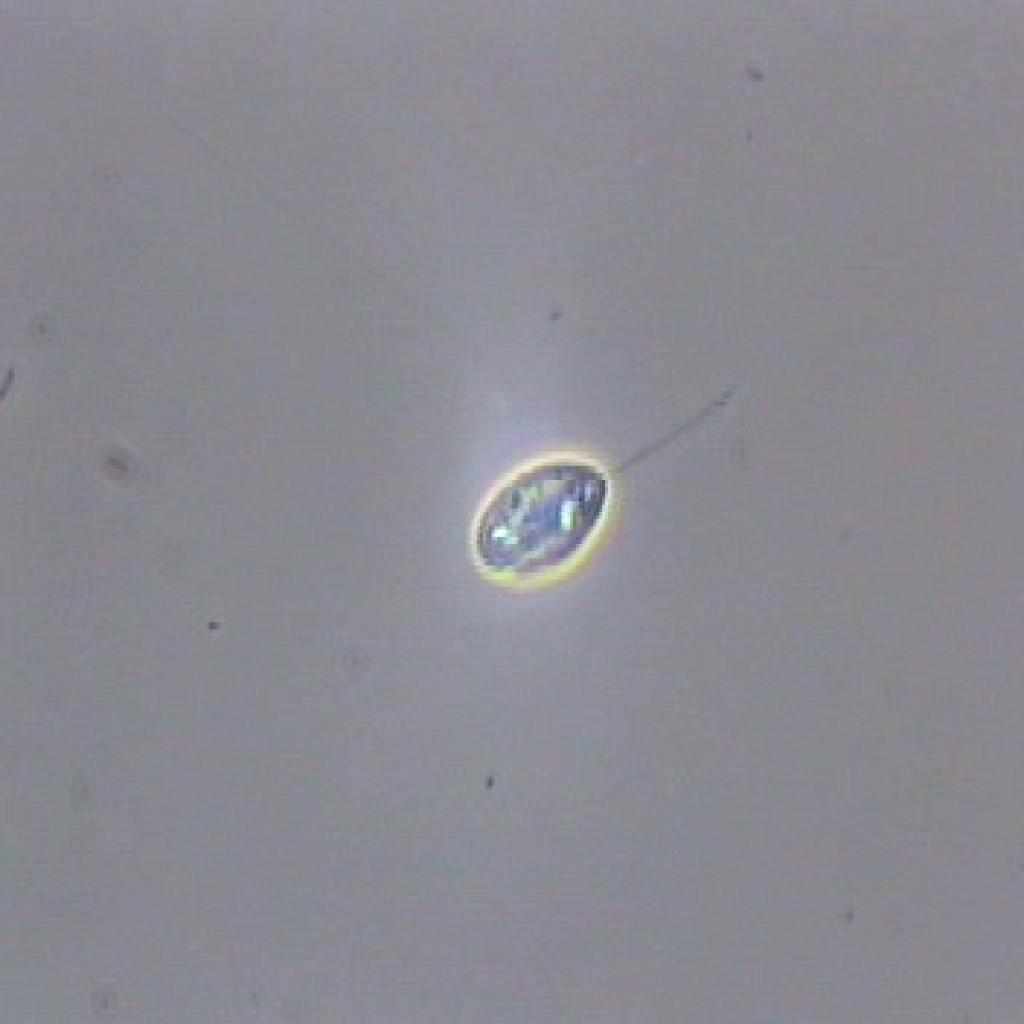Flagellates: (458, 416, 697, 594)
